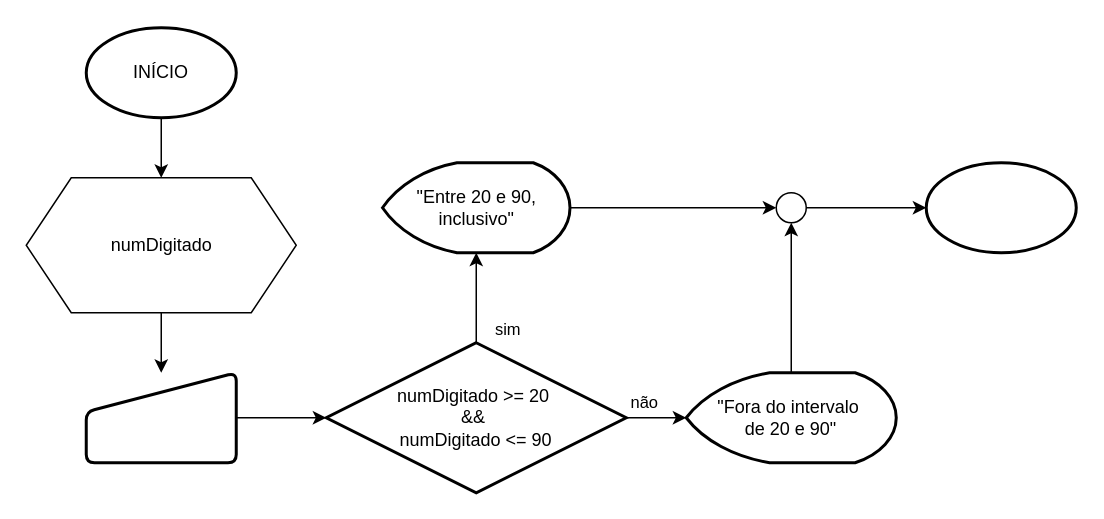
The diagram is 1104 pixels wide and 519 high, and some of its shapes have lost their labels. Here are the shapes that lost their labels. From the top down, the centre of each, then its label:
the point at 1000,207: FIM
the point at 160,417: ler numDigitado
